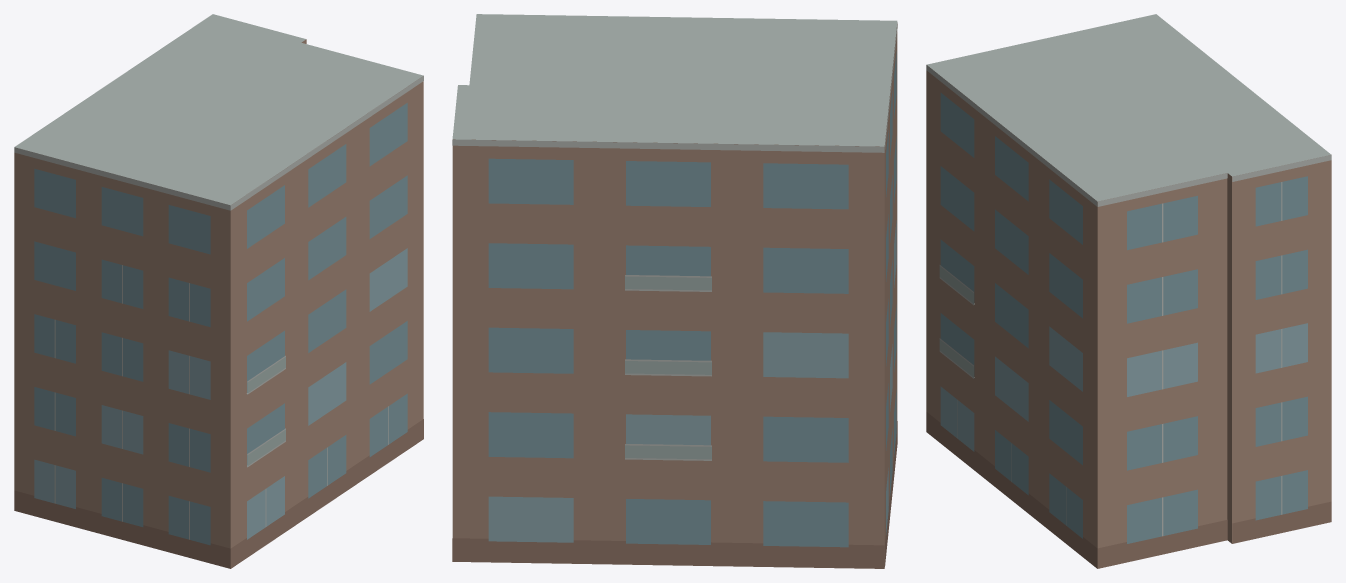
The model's file is survey-upis-32831071.glb.
The picture shows the model from 3 angles, left to right: view 1: azimuth 30°, elevation 25°; view 2: azimuth 150°, elevation 25°; view 3: azimuth 270°, elevation 25°; orthographic projection. The views are drawn at different scales.
Parts seen in each view (by area): view 1: survey-upis-32831071.tmp; view 2: survey-upis-32831071.tmp; view 3: survey-upis-32831071.tmp.
Boxes of the visible parts, <box> form: survey-upis-32831071.tmp: <box>14,14,423,568</box>; survey-upis-32831071.tmp: <box>452,14,897,568</box>; survey-upis-32831071.tmp: <box>926,14,1331,568</box>.
Bounding box in the file's own units: 17.86 × 16.3 × 16.3.
